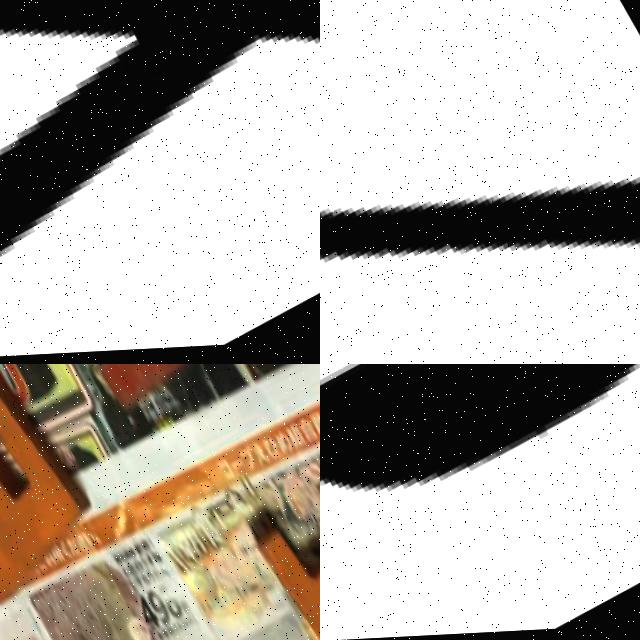7: (320, 0, 640, 364)
E: (320, 364, 639, 493), (0, 364, 97, 614)
I: (226, 450, 320, 640)
Y: (0, 0, 320, 350)
